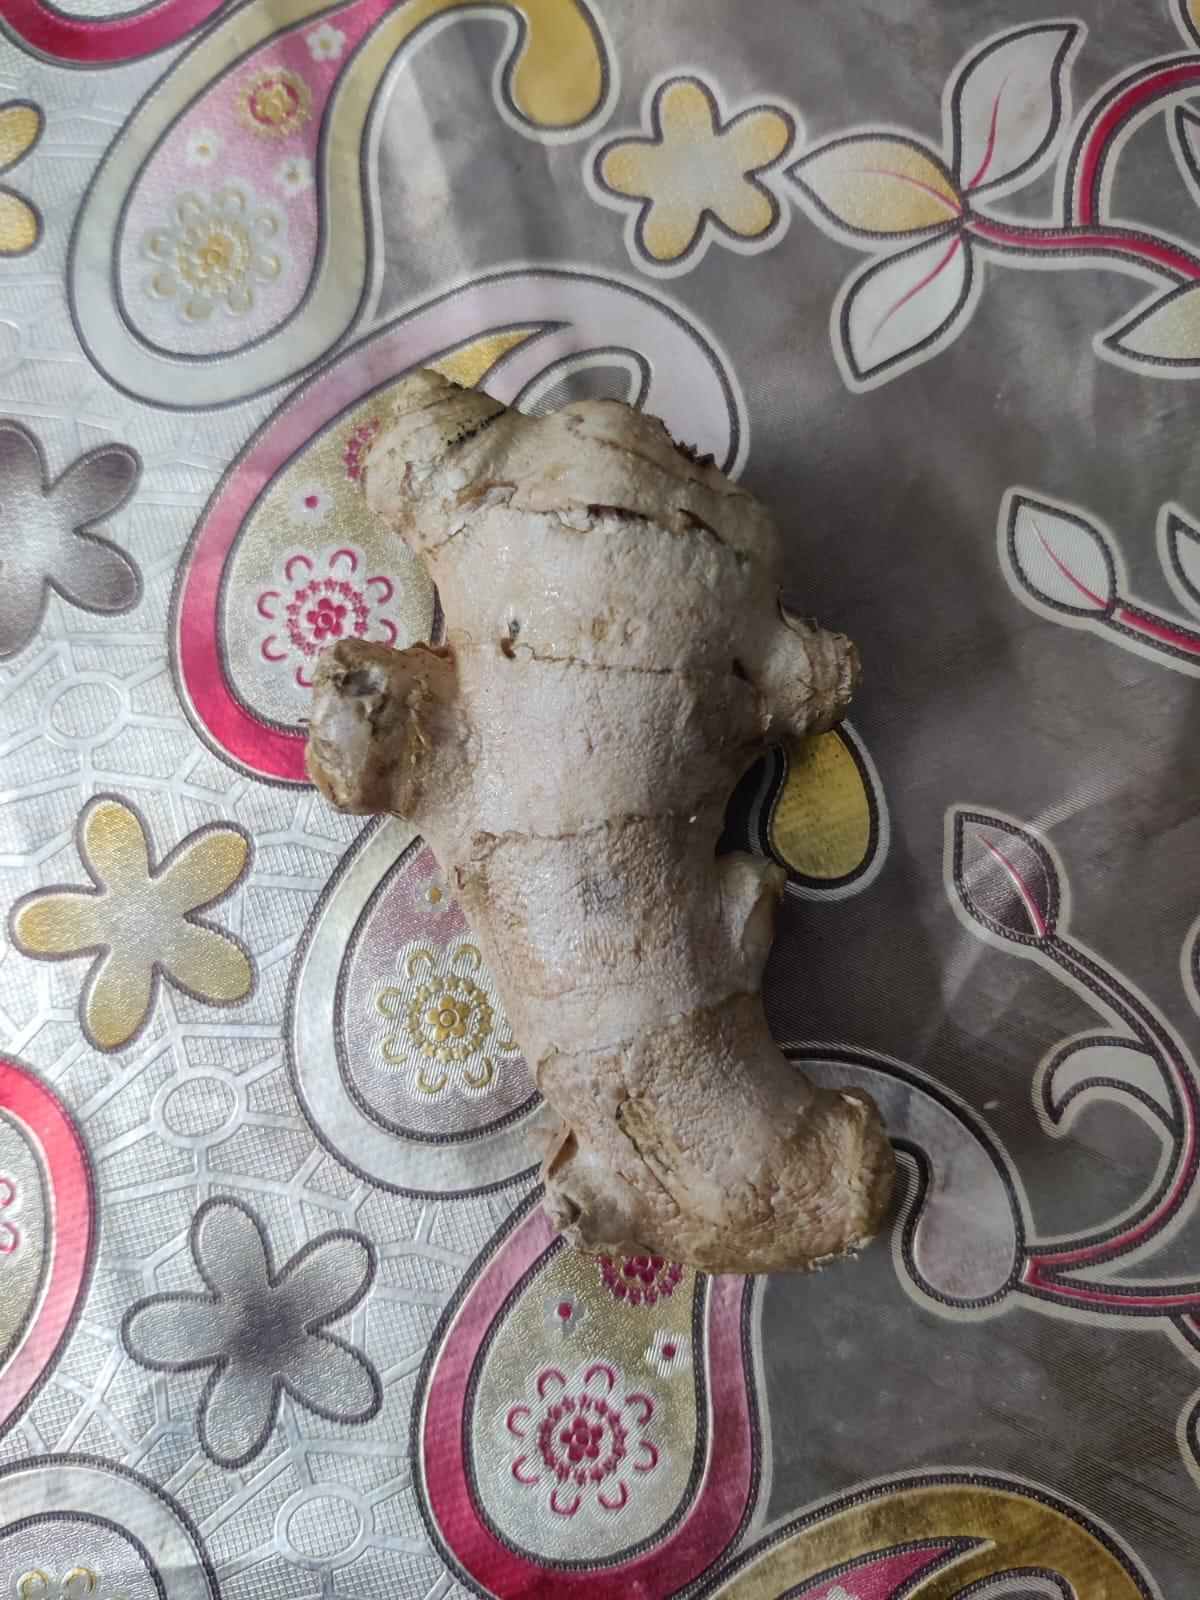non-mango: (310, 377, 930, 1298)
